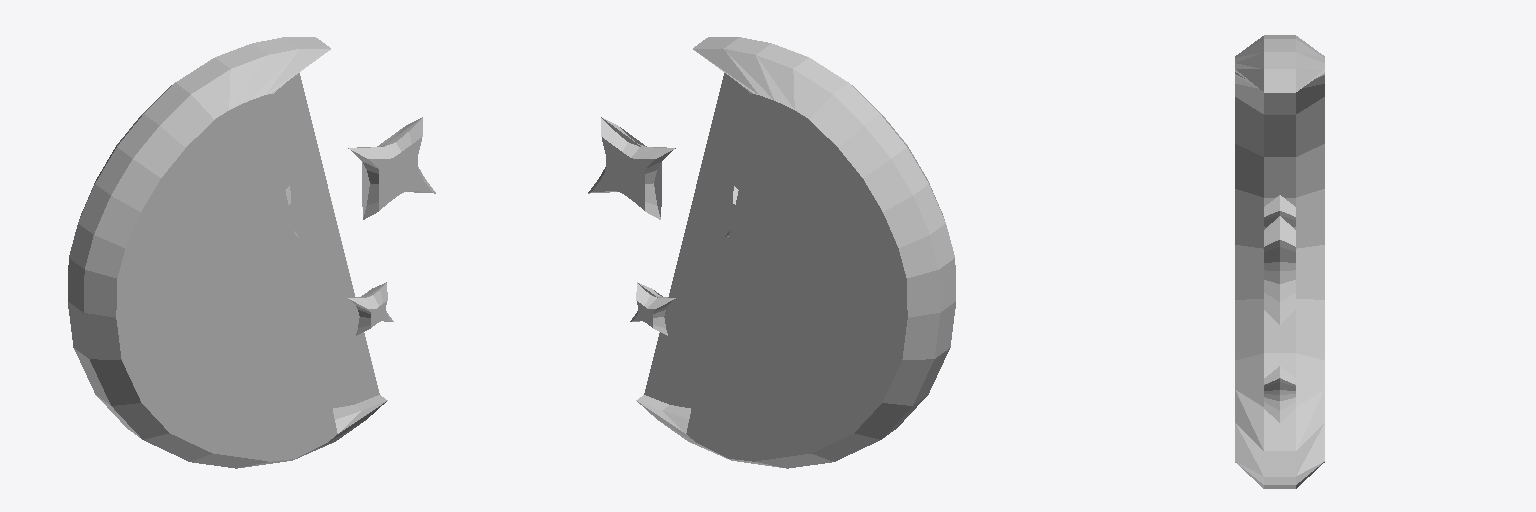
File: moon.obj
The picture shows the model from 3 angles: view 1: azimuth 30°, elevation 25°; view 2: azimuth 150°, elevation 25°; view 3: azimuth 270°, elevation 25°; orthographic projection.
Parts seen in each view (by area): view 1: Cube; view 2: Cube; view 3: Cube.
Part boxes in pixels (left/top/right/bottom): Cube: left=68, top=37, right=435, bottom=468; Cube: left=588, top=37, right=955, bottom=468; Cube: left=1235, top=35, right=1324, bottom=488.
Bounding box in the file's own units: 3.76 × 4.1 × 0.8084.